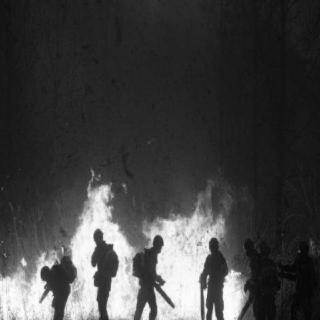Fire: (7, 160, 253, 316)
